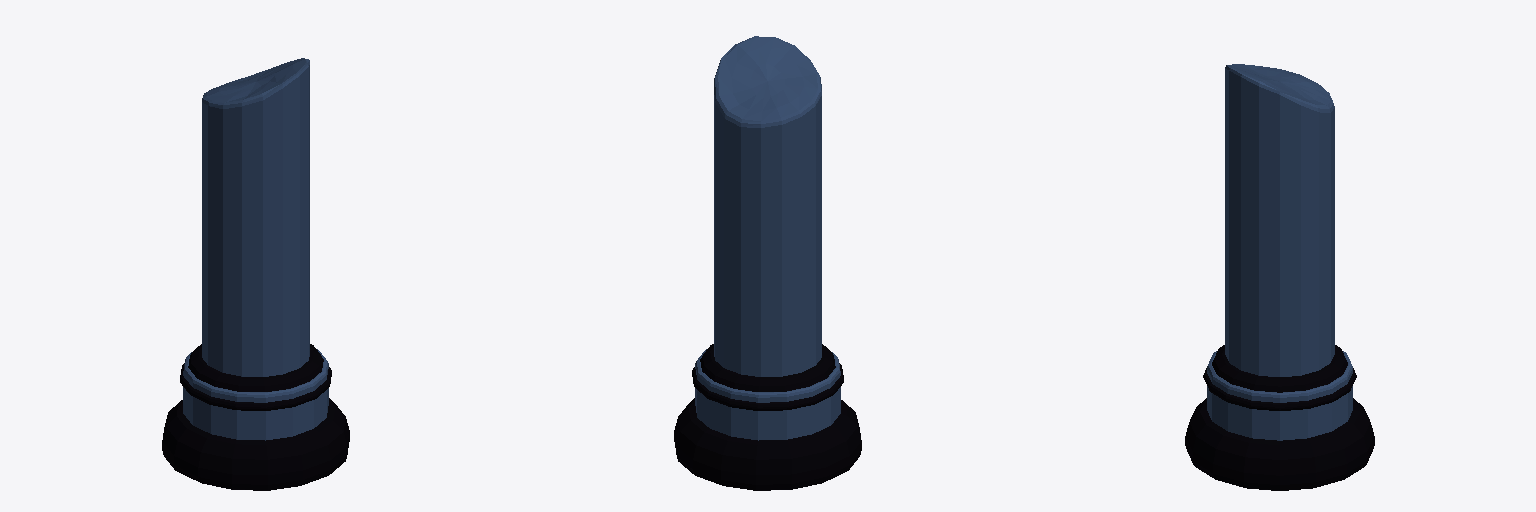
File: column-2.obj
3 renders of one model, left to right at view 1: azimuth 30°, elevation 25°; view 2: azimuth 150°, elevation 25°; view 3: azimuth 270°, elevation 25°, orthographic.
Parts seen in each view (by area): view 1: Cylinder_Cylinder.005, Cylinder.003_Cylinder.004, Cylinder.004_Cylinder, Cylinder.001, Cylinder.002; view 2: Cylinder_Cylinder.005, Cylinder.003_Cylinder.004, Cylinder.004_Cylinder, Cylinder.001, Cylinder.002; view 3: Cylinder_Cylinder.005, Cylinder.003_Cylinder.004, Cylinder.004_Cylinder, Cylinder.001, Cylinder.002.
Part boxes in pixels (left/top/right/bottom): Cylinder_Cylinder.005: left=202, top=58, right=309, bottom=376; Cylinder.003_Cylinder.004: left=162, top=398, right=349, bottom=490; Cylinder.004_Cylinder: left=183, top=349, right=328, bottom=440; Cylinder.001: left=188, top=344, right=323, bottom=391; Cylinder.002: left=180, top=363, right=331, bottom=410; Cylinder_Cylinder.005: left=714, top=36, right=821, bottom=376; Cylinder.003_Cylinder.004: left=674, top=398, right=861, bottom=490; Cylinder.004_Cylinder: left=695, top=349, right=840, bottom=440; Cylinder.001: left=700, top=344, right=835, bottom=391; Cylinder.002: left=692, top=363, right=843, bottom=410; Cylinder_Cylinder.005: left=1225, top=64, right=1334, bottom=376; Cylinder.003_Cylinder.004: left=1185, top=398, right=1374, bottom=490; Cylinder.004_Cylinder: left=1207, top=351, right=1352, bottom=440; Cylinder.001: left=1212, top=345, right=1347, bottom=392; Cylinder.002: left=1203, top=368, right=1356, bottom=410.
Bounding box in the file's own units: 1.03 × 2.38 × 1.03.